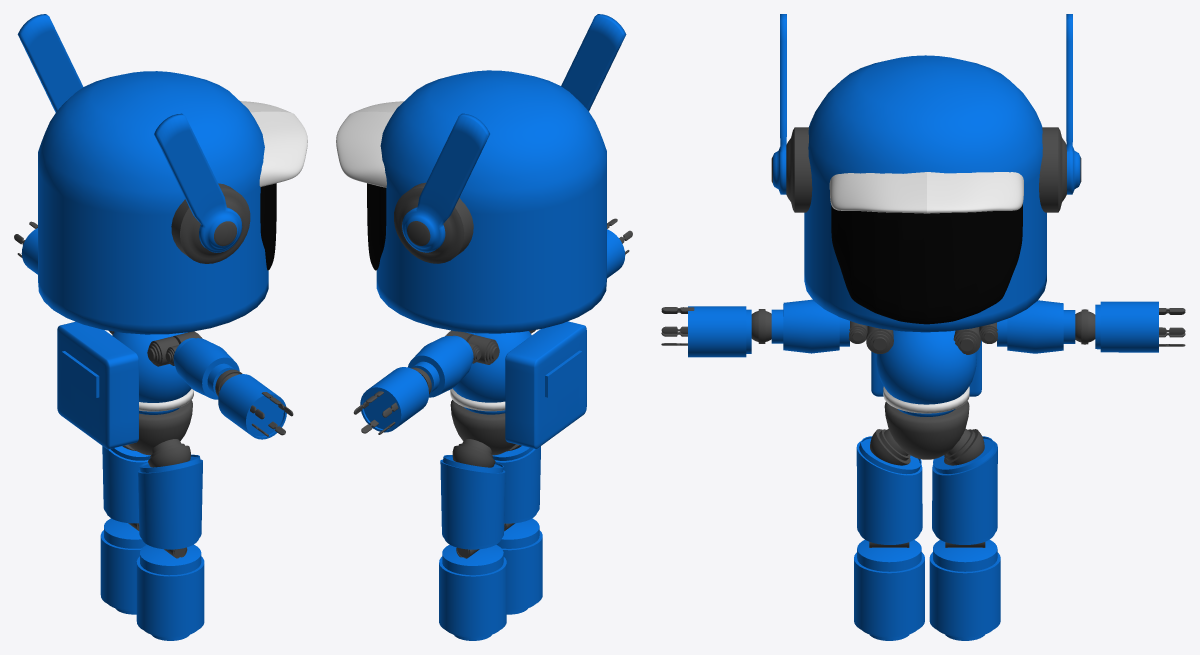
The model's file is Robot.fbx.
The picture shows the model from 3 angles, left to right: view 1: azimuth 30°, elevation 25°; view 2: azimuth 150°, elevation 25°; view 3: azimuth 270°, elevation 25°; orthographic projection. The views are drawn at different scales.
Visible parts, largest first — view 1: башка син, Куб, Cylinder.006, Cylinder.004, ухо1 син, козырек бел, Cylinder.012, ухо2 син, ухо1 черн, Cylinder.001, Cylinder.010, Сфера (+8 smaller); view 2: башка син, Куб, Cylinder.012, Cylinder.010, ухо2 син, козырек бел, Cylinder.006, ухо1 син, ухо2 черн, Cylinder.002, Cylinder.004, Cylinder.003 (+8 smaller); view 3: башка син, лицо, козырек бел, Cylinder.012, Cylinder.006, Сфера, Cylinder.004, Cylinder.010, Cylinder, Cylinder.003, Cylinder.002, Cylinder.001 (+9 smaller).
Boxes of the visible parts, left/top/right/bottom form: башка син: left=38, top=71, right=268, bottom=334; Куб: left=57, top=321, right=138, bottom=449; Cylinder.006: left=136, top=544, right=204, bottom=640; Cylinder.004: left=138, top=454, right=202, bottom=549; ухо1 син: left=154, top=113, right=242, bottom=252; козырек бел: left=240, top=101, right=307, bottom=186; Cylinder.012: left=100, top=518, right=146, bottom=614; ухо2 син: left=17, top=14, right=83, bottom=112; ухо1 черн: left=171, top=183, right=250, bottom=263; Cylinder.001: left=218, top=374, right=286, bottom=439; Cylinder.010: left=102, top=446, right=150, bottom=523; Сфера: left=112, top=331, right=191, bottom=402; башка син: left=376, top=70, right=606, bottom=333; Куб: left=505, top=321, right=586, bottom=448; Cylinder.012: left=439, top=544, right=506, bottom=640; Cylinder.010: left=440, top=455, right=505, bottom=549; ухо2 син: left=402, top=113, right=489, bottom=252; козырек бел: left=336, top=101, right=403, bottom=187; Cylinder.006: left=496, top=518, right=542, bottom=614; ухо1 син: left=561, top=14, right=626, bottom=111; ухо2 черн: left=394, top=182, right=473, bottom=263; Cylinder.002: left=360, top=367, right=428, bottom=432; Cylinder.004: left=492, top=446, right=540, bottom=523; Cylinder.003: left=408, top=335, right=473, bottom=397; башка син: left=804, top=55, right=1046, bottom=332; лицо: left=831, top=204, right=1022, bottom=324; козырек бел: left=829, top=172, right=1023, bottom=213; Cylinder.012: left=929, top=539, right=1000, bottom=640; Cylinder.006: left=854, top=540, right=924, bottom=640; Сфера: left=876, top=330, right=976, bottom=404; Cylinder.004: left=856, top=436, right=922, bottom=544; Cylinder.010: left=932, top=436, right=997, bottom=544; Cylinder: left=771, top=299, right=849, bottom=353; Cylinder.003: left=997, top=300, right=1075, bottom=353; Cylinder.002: left=1095, top=301, right=1158, bottom=352; Cylinder.001: left=688, top=306, right=751, bottom=357.
Bounding box in the file's own units: 452 × 1007 × 807.
